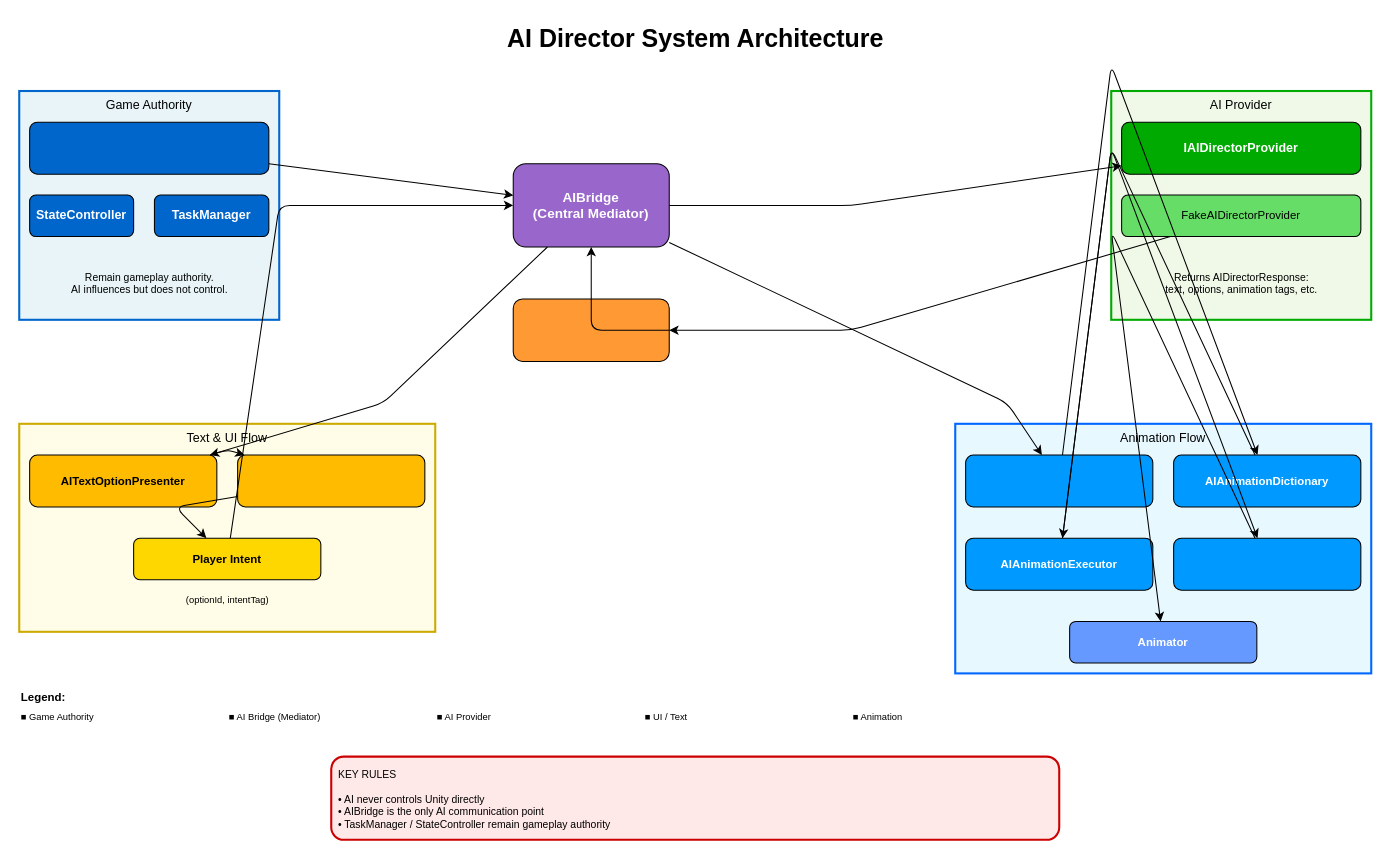
Image size: 1389x858. Some labels were removed from this diagram. The shapes that lost their labels are listed below. From the top down, each one's centre as x and y in pixels, then its label:
At (149,147): "TaskController".
At (590,329): "AIDirectorResponseValidator".
At (331,480): "TaskOptionsUIController".
At (1059,480): "AIAnimationSelector".
At (1267,563): "CharacterAnimationService".
